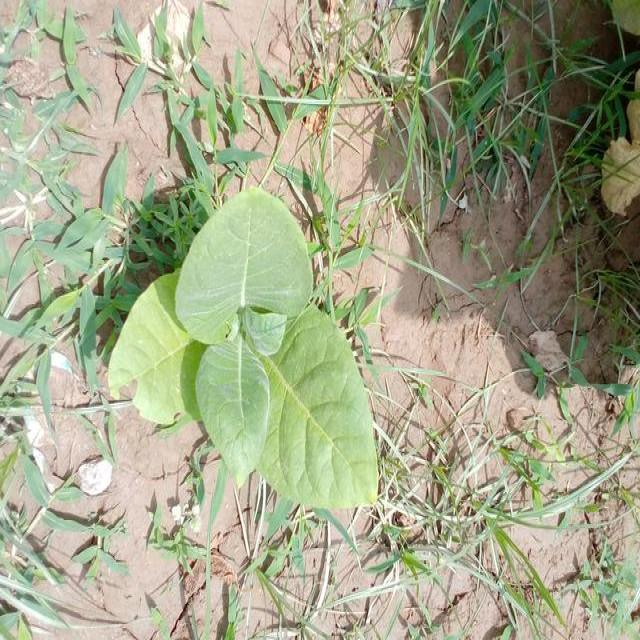crop: (137, 206, 377, 502)
